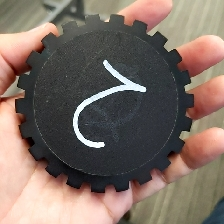gear: (13, 12, 196, 195)
